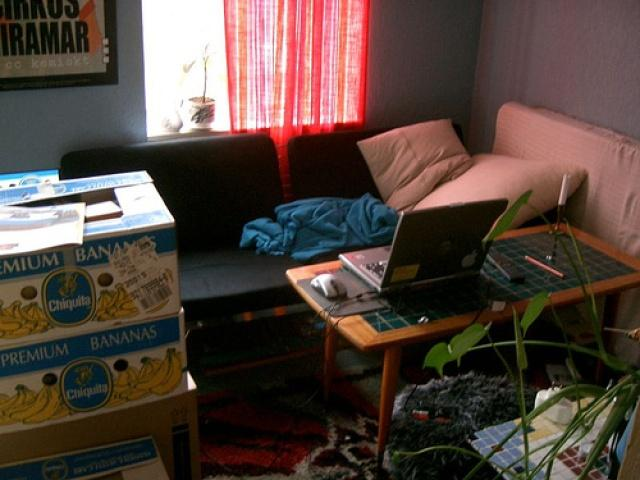Meja: (281, 220, 639, 398)
